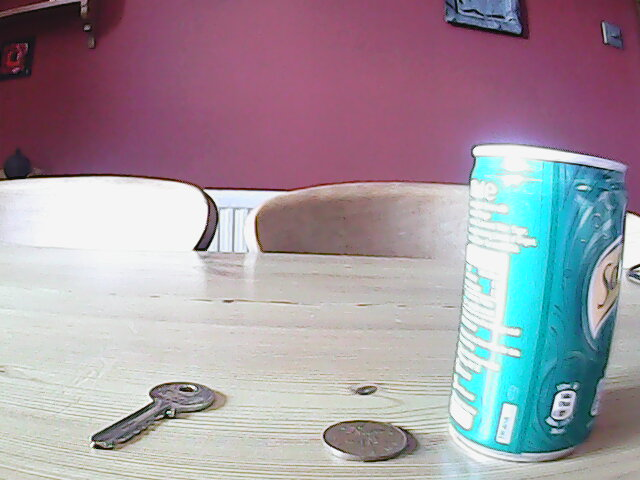Can: (443, 142, 630, 464)
Coin: (321, 418, 409, 463)
Key: (89, 379, 217, 453)
